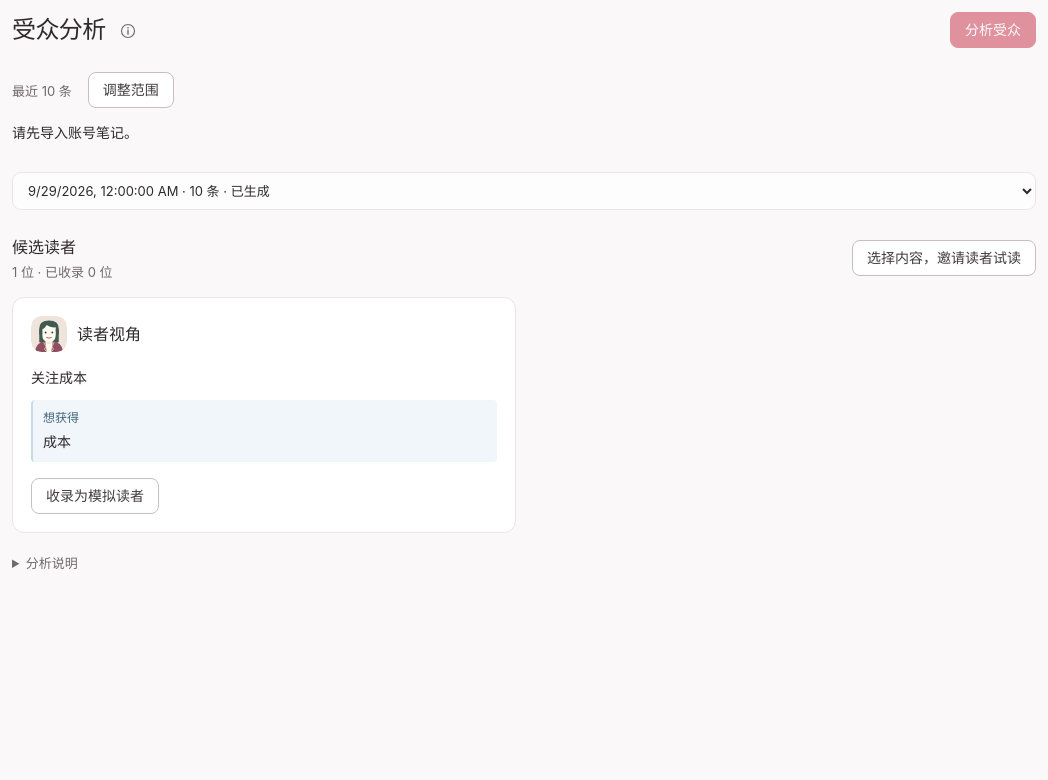
Test case: cleans only fixed legacy diagnostic prose without changing saved results
Click the heading "分析说明" at (52, 563), box [26,555,78,571]
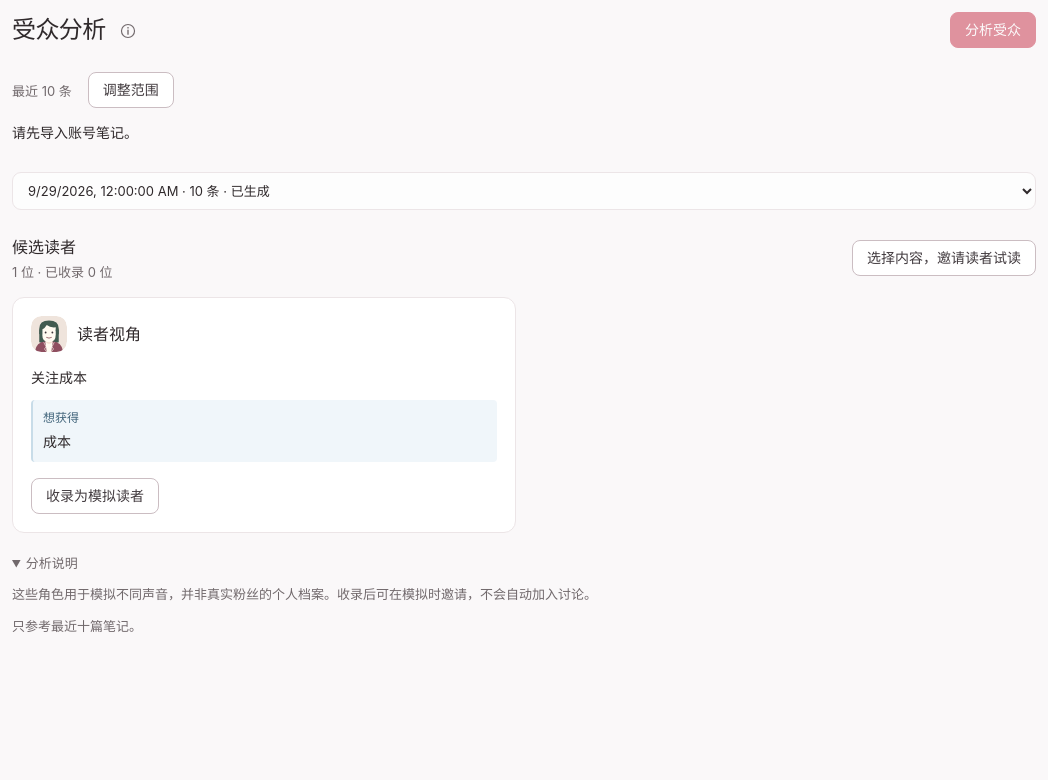
Expected: the message reads "1 位 · 已收录 0 位", [12,262,112,281]
Result: the text "只参考最近十篇笔记。" is shown at [12,618,142,634]
